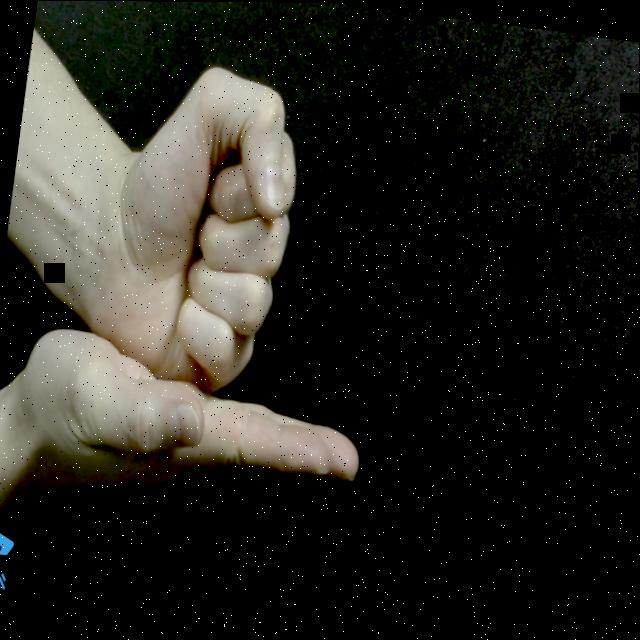Rock: (64, 50, 312, 399)
